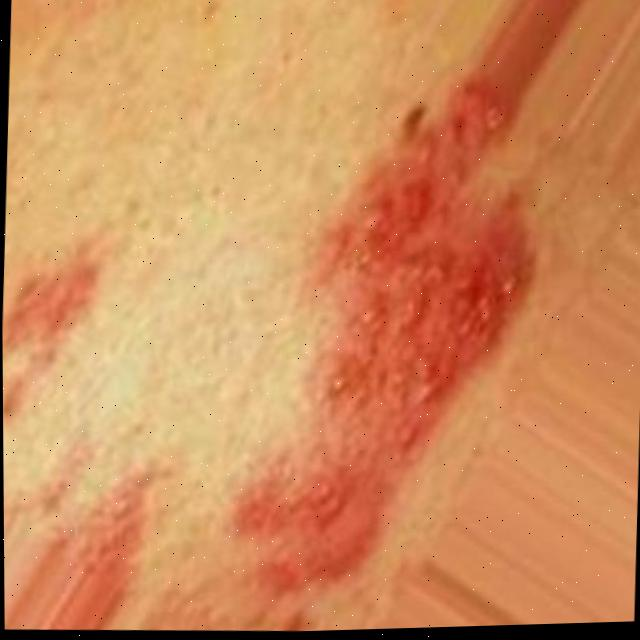Shingles: (224, 61, 546, 596), (2, 238, 104, 433), (53, 453, 162, 573)
